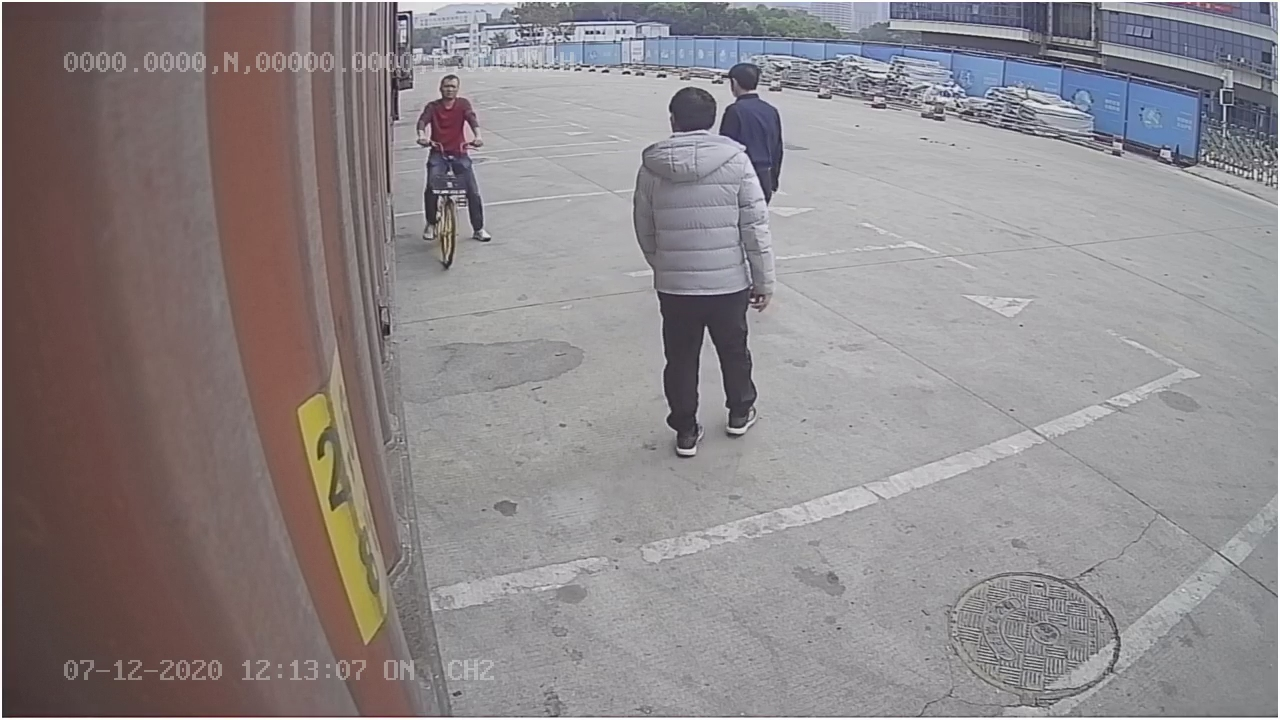person: (630, 87, 775, 455)
